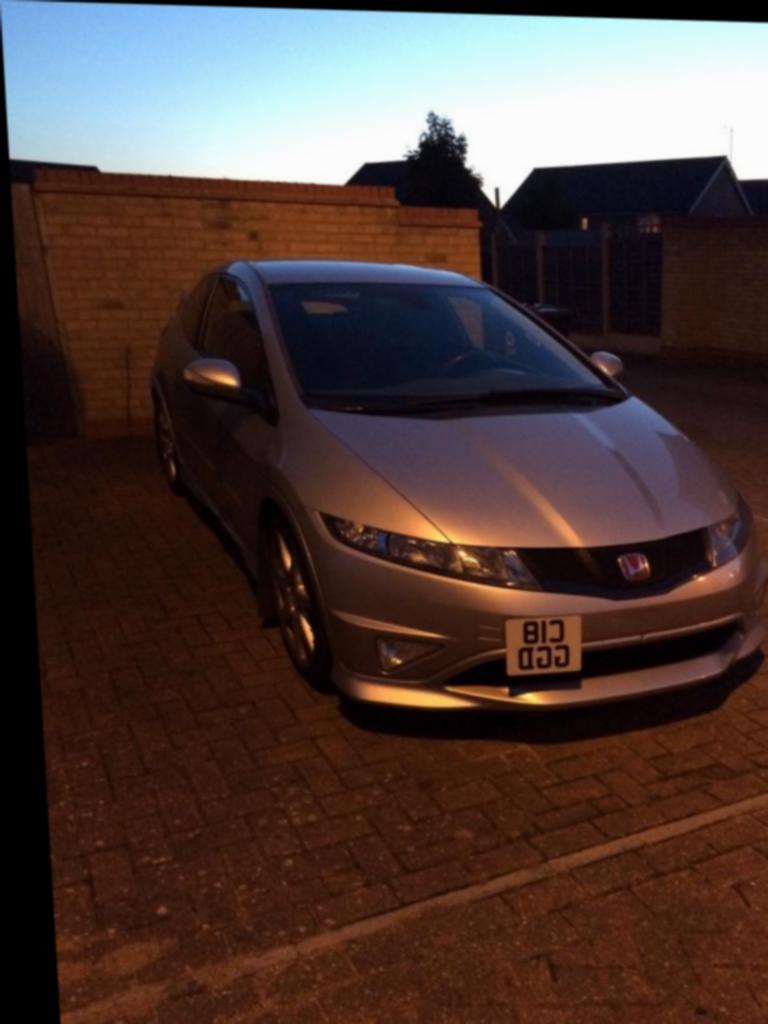License_Plate: (495, 598, 599, 696)
